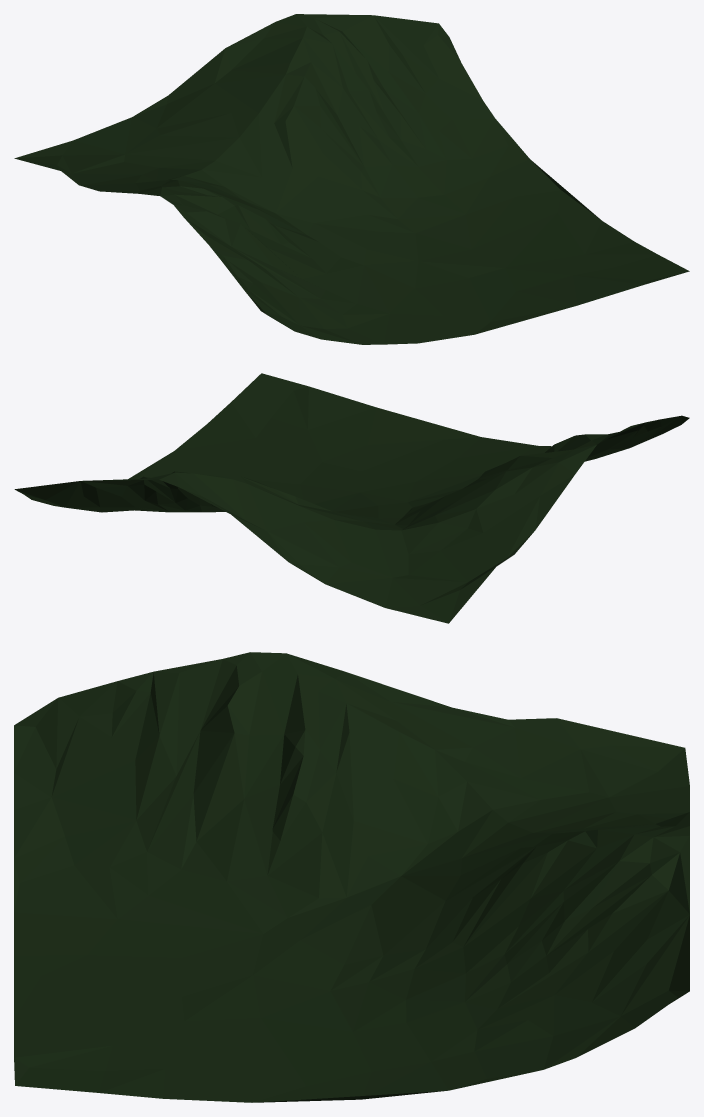
The model's file is SM_terrain_06.fbx.
3 renders of one model, top to bottom at view 1: azimuth 30°, elevation 25°; view 2: azimuth 150°, elevation 25°; view 3: azimuth 270°, elevation 25°, orthographic. The views are drawn at different scales.
Visible parts, largest first — view 1: terrain_06; view 2: terrain_06; view 3: terrain_06.
Part boxes in pixels (x1,y1,x2,y2): terrain_06: (14, 14, 689, 344); terrain_06: (14, 373, 689, 623); terrain_06: (14, 652, 689, 1102).
Bounding box in the file's own units: 7760 × 2152 × 7742.
